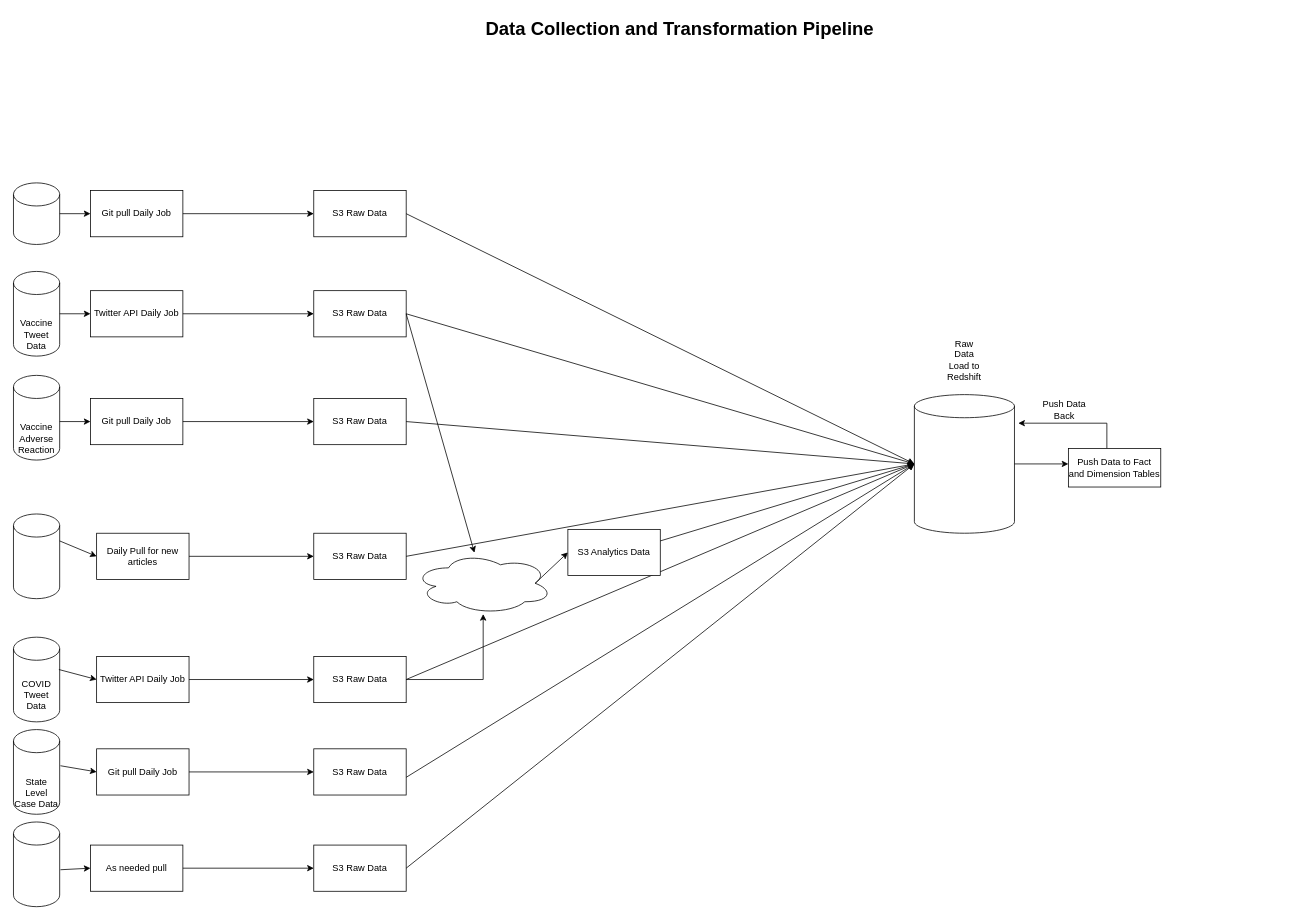
The diagram is 1305 pixels wide and 920 high, and some of its shapes have lost their labels. The centre of each missing label's shape, as x and y in pixels:
COVID Research Articles: [36,556]
EMR Cluster For Analytics Processing: [482,583]
Historical Weather Data: [36,864]
Redshift Cluster: [964,463]
Vaccine Data: [36,213]
